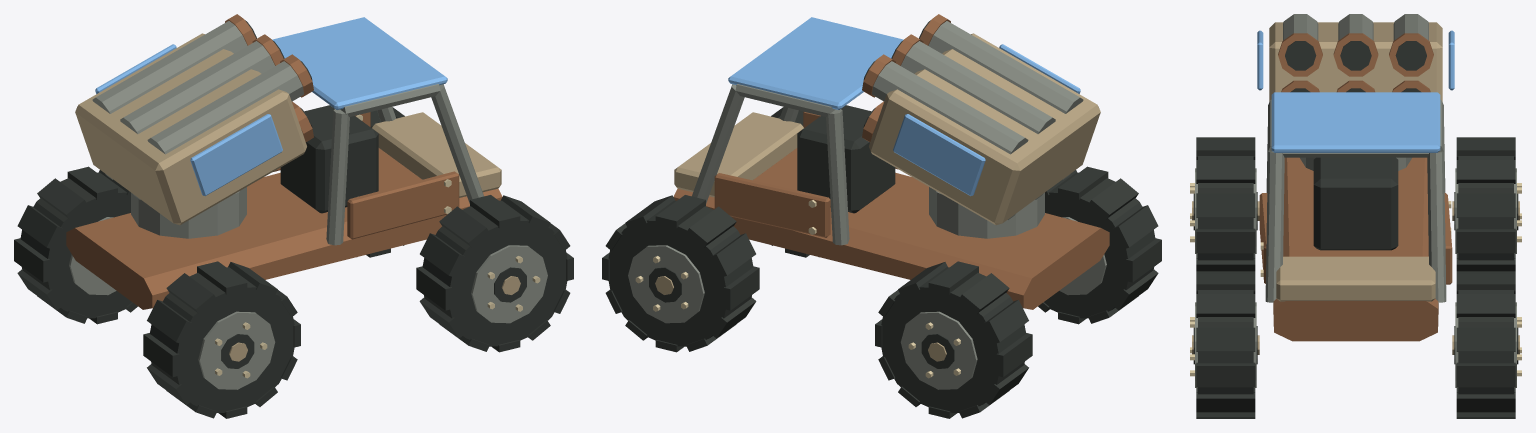
The model's file is rocket_buggy.glb.
3 renders of one model, left to right at view 1: azimuth 30°, elevation 25°; view 2: azimuth 150°, elevation 25°; view 3: azimuth 270°, elevation 25°, orthographic.
Parts seen in each view (by area): view 1: Hull, Turret; view 2: Hull, Turret; view 3: Hull, Turret.
Part boxes in pixels (x1,y1,x2,y2): Hull: [14, 17, 573, 418]; Turret: [75, 14, 313, 225]; Hull: [602, 17, 1161, 418]; Turret: [862, 14, 1100, 225]; Hull: [1190, 92, 1521, 418]; Turret: [1257, 14, 1454, 101].
Size of the model in its own units: 1.94 by 1.36 by 1.38.
